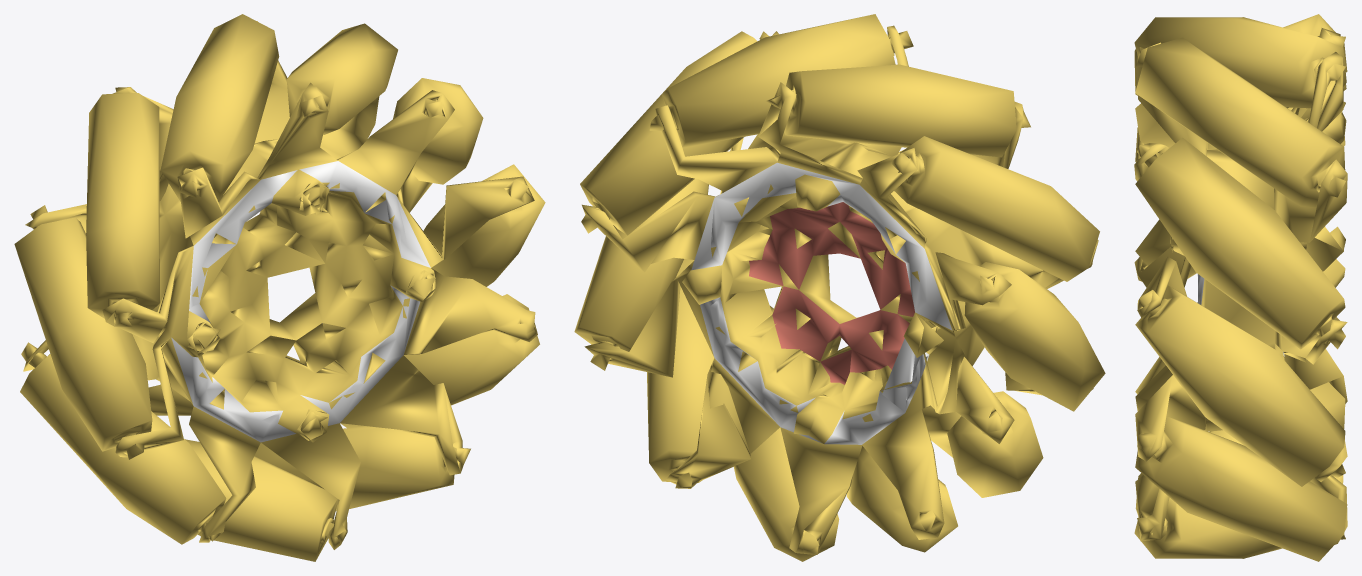
File: gobilda mec right dec.fbx
3 views of the same model, side by side, from view 1: azimuth 30°, elevation 25°; view 2: azimuth 150°, elevation 25°; view 3: azimuth 270°, elevation 25° (orthographic). The views are drawn at different scales.
Parts seen in each view (by area): view 1: Body1; view 2: Body1; view 3: Body1.
Part boxes in pixels (bbox=[...]): Body1: bbox=[14, 14, 545, 561]; Body1: bbox=[574, 14, 1105, 561]; Body1: bbox=[1134, 14, 1347, 561].
Size of the model in its own units: 9.6 by 9.72 by 3.74.
